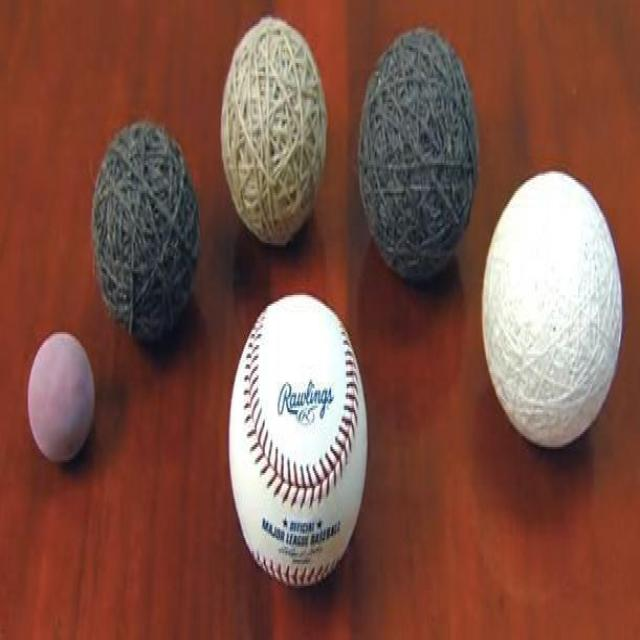baseball: (229, 296, 368, 589)
